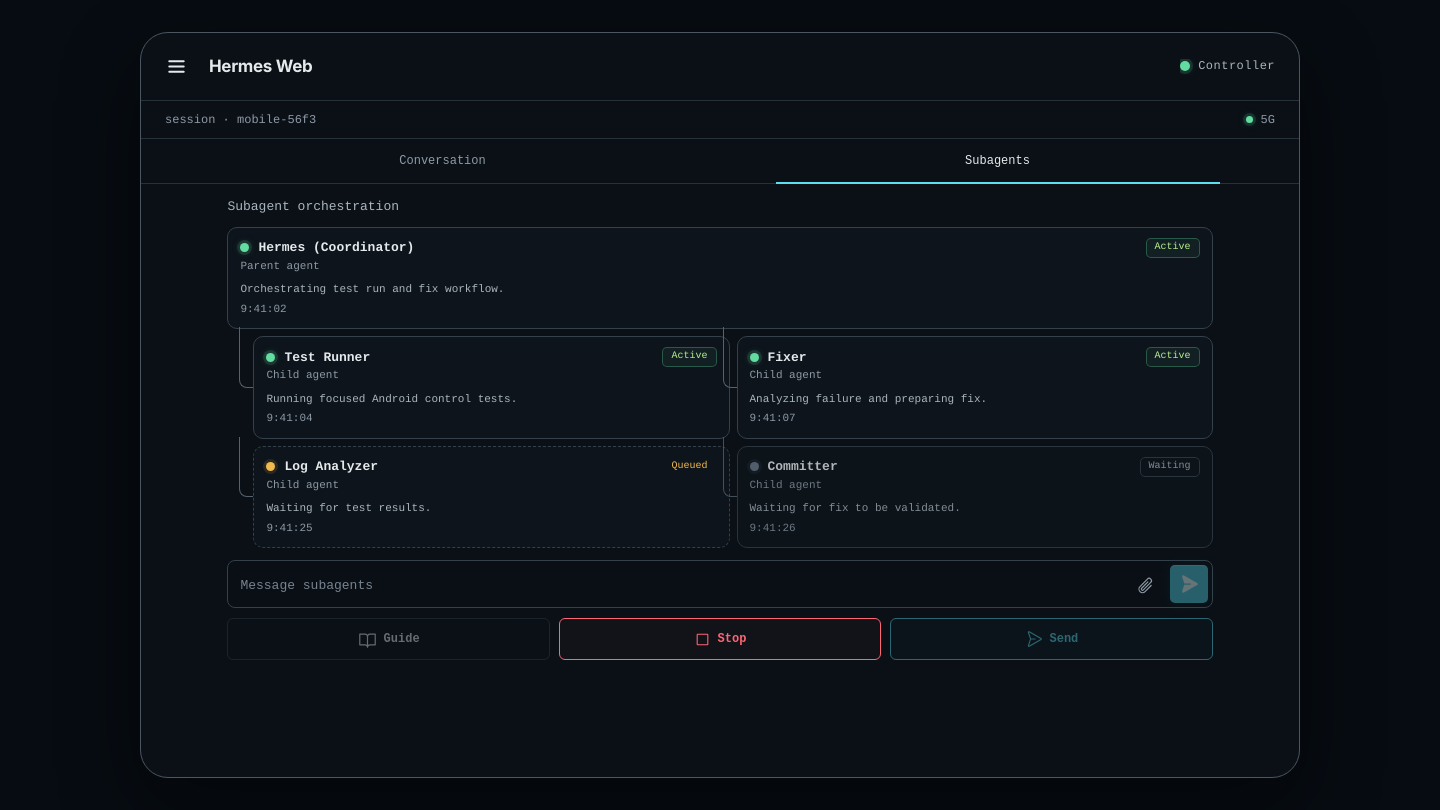
Test: Hermes Web mobile-parity slice › keeps Subagents Stop single-flight and disabled while pending
Double-click the button "Stop".
double_click(720, 639)  # box [559,618,881,660]
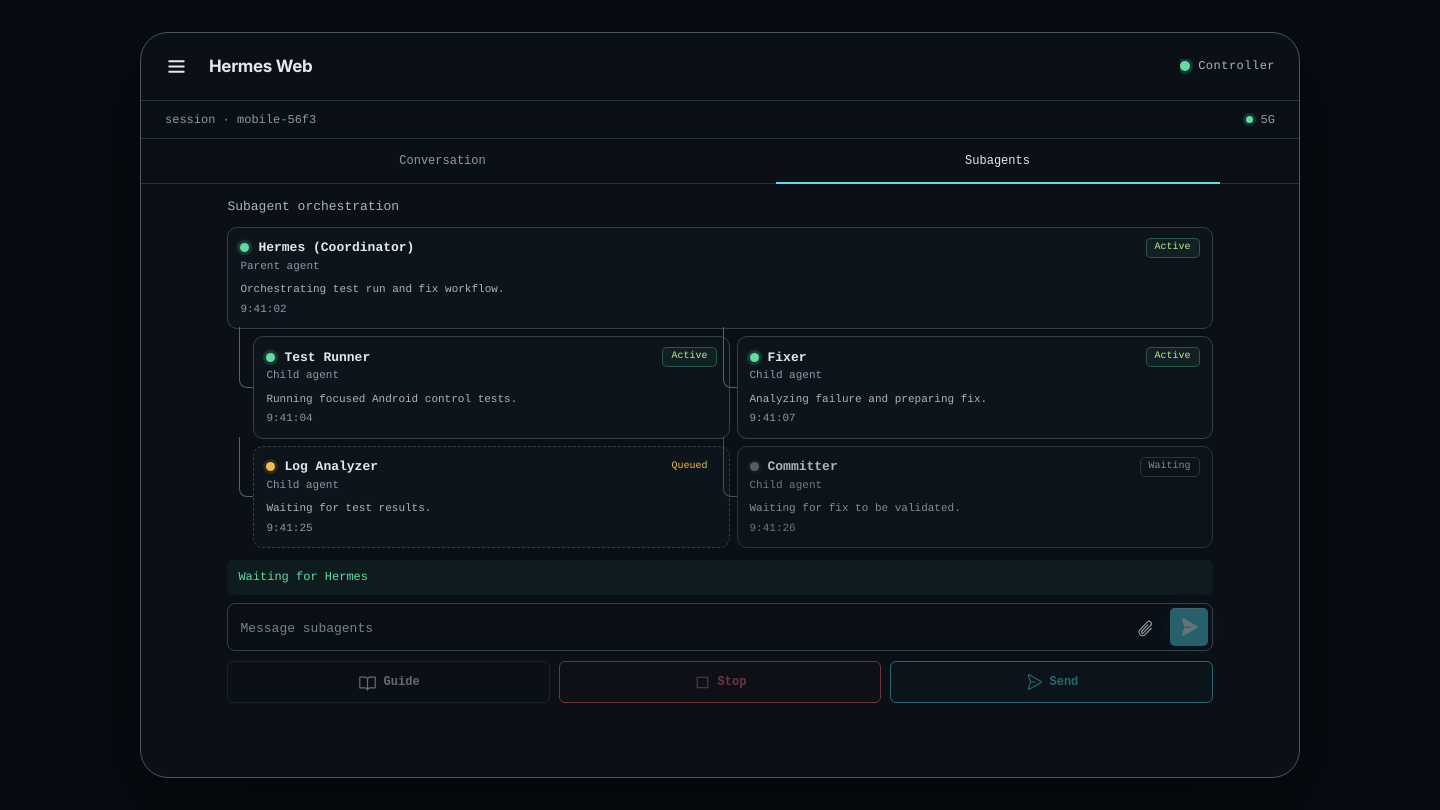
Now the button "Stop" is disabled, box [559,661,881,703]
